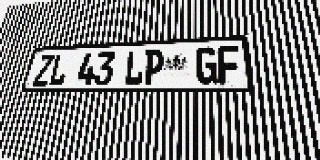3: (93, 51, 115, 85)
4: (76, 52, 98, 85)
F: (217, 45, 241, 84)
G: (196, 47, 218, 84)
L: (124, 50, 145, 85), (48, 54, 70, 86)
P: (143, 49, 164, 85)
Z: (32, 54, 55, 86)
